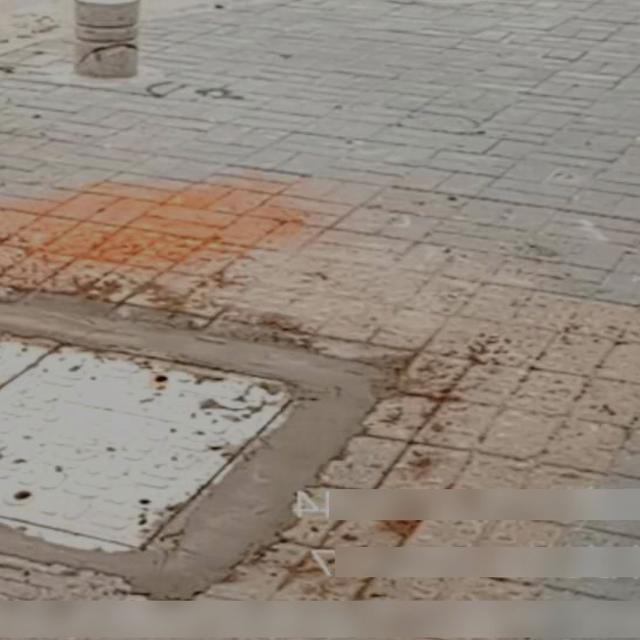good: (0, 298, 361, 550)
